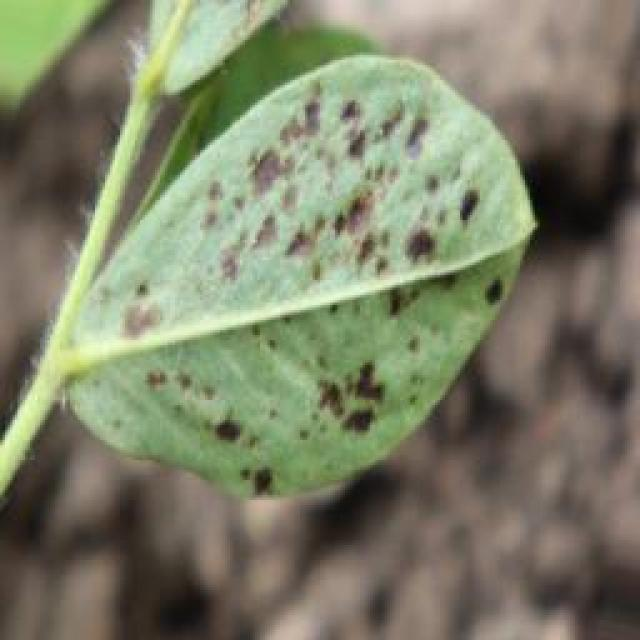Whitefly: (58, 67, 550, 513)
